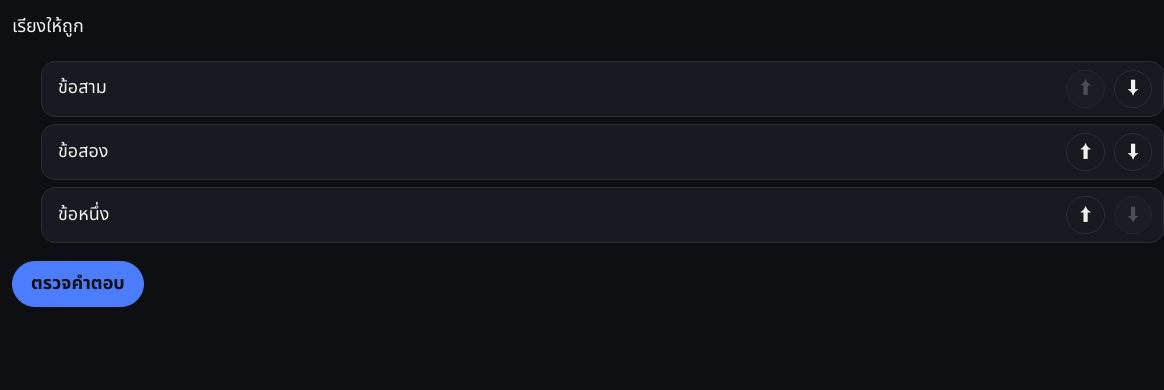
ActivityView feedback › wrong answer keeps explainTh
Click the button "ตรวจคำตอบ". click: {"x": 78, "y": 284}
box: [12,261,144,307]
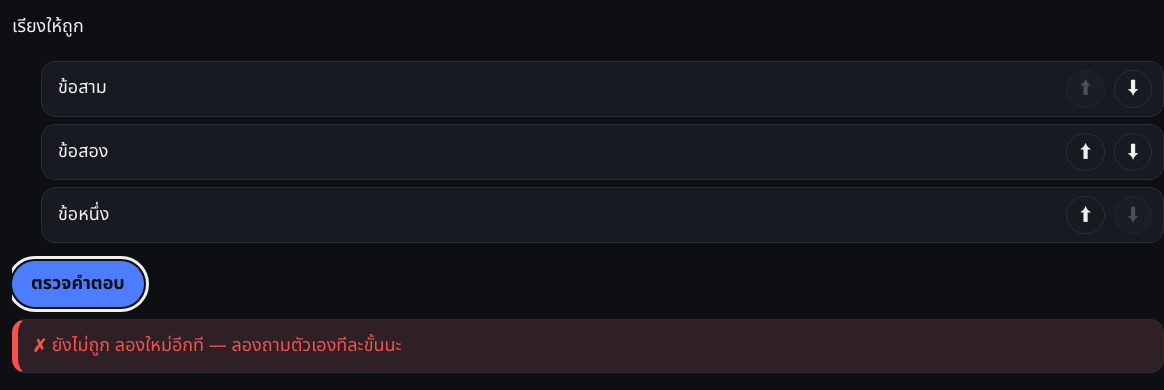
Result: the text "ยังไม่ถูก ลองใหม่อีกที — ลองถามตัวเองทีละขั้นนะ" is shown at [12,319,1163,373]
